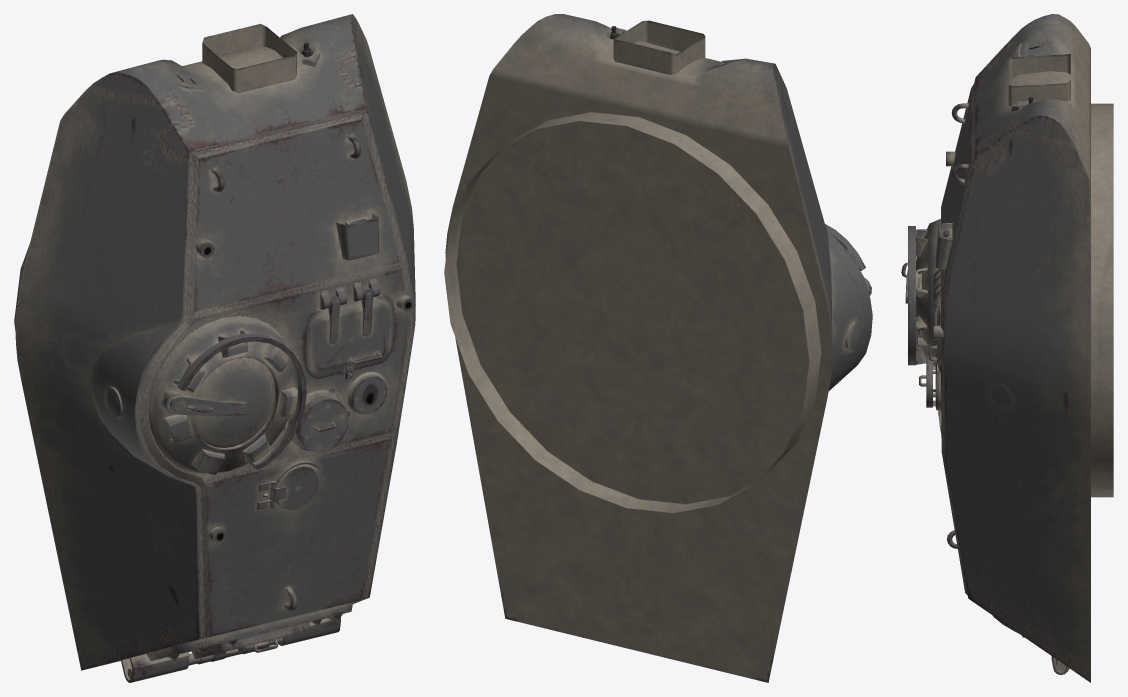
File: Turret_01.glb
The picture shows the model from 3 angles, left to right: view 1: azimuth 30°, elevation 25°; view 2: azimuth 150°, elevation 25°; view 3: azimuth 270°, elevation 25°; orthographic projection. The views are drawn at different scales.
Parts seen in each view (by area): view 1: set_0_group_0; view 2: set_0_group_0; view 3: set_0_group_0.
Boxes of the visible parts, <box> form: set_0_group_0: <box>14,14,415,682</box>; set_0_group_0: <box>444,14,872,682</box>; set_0_group_0: <box>901,14,1113,682</box>.
Size of the model in its own units: 2.45 by 3.65 by 1.24.
Materials: 1 (1 with a texture image).
